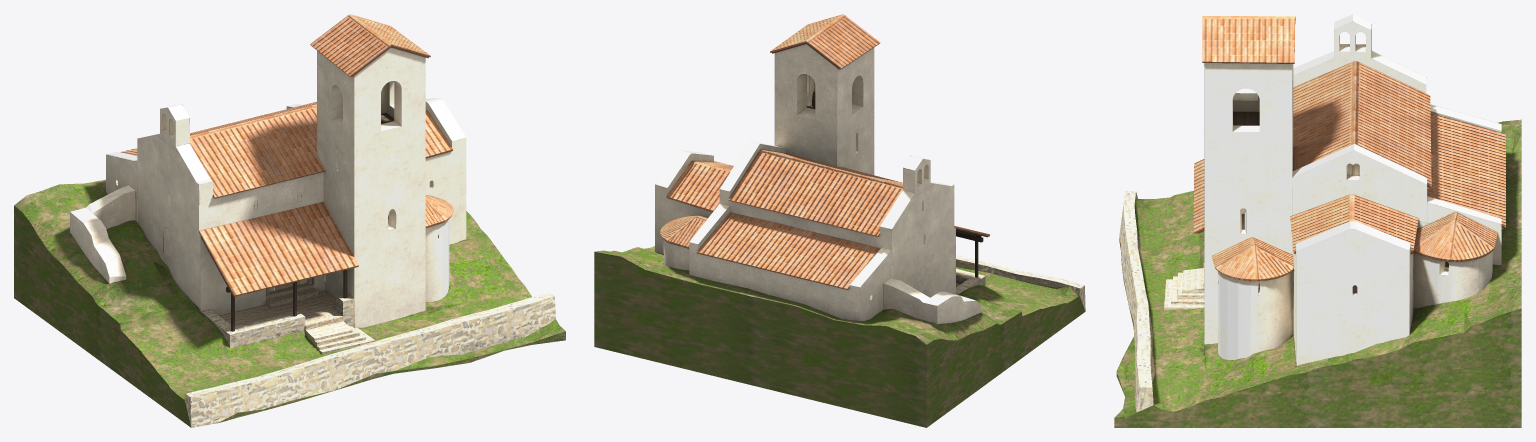
Rendered from pedret_XIII.glb.
The picture shows the model from 3 angles, left to right: view 1: azimuth 30°, elevation 25°; view 2: azimuth 150°, elevation 25°; view 3: azimuth 270°, elevation 25°; orthographic projection. The views are drawn at different scales.
Visible parts, largest first — view 1: PEDRET_XIII-baked-1, PEDRET_XIII-baked-2; view 2: PEDRET_XIII-baked-2, PEDRET_XIII-baked-1; view 3: PEDRET_XIII-baked-2, PEDRET_XIII-baked-1.
Part boxes in pixels (x1=…): PEDRET_XIII-baked-1: x1=70, y1=47, x2=555, y2=427; PEDRET_XIII-baked-2: x1=14, y1=14, x2=565, y2=427; PEDRET_XIII-baked-2: x1=594, y1=14, x2=1085, y2=427; PEDRET_XIII-baked-1: x1=655, y1=44, x2=1085, y2=324; PEDRET_XIII-baked-2: x1=1114, y1=16, x2=1521, y2=427; PEDRET_XIII-baked-1: x1=1119, y1=14, x2=1503, y2=412.
Bounding box in the file's own units: 21 × 16.27 × 17.78.
6 materials, 6 textured.
